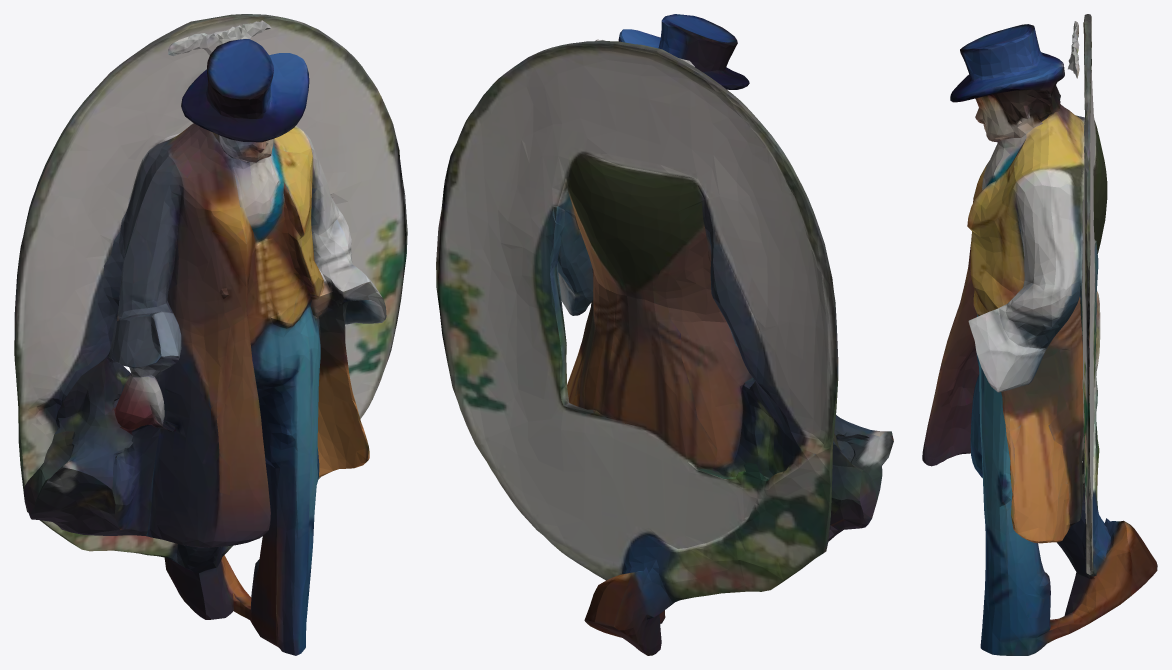
File: anime_industrial_merchant.glb
3 renders of one model, left to right at view 1: azimuth 30°, elevation 25°; view 2: azimuth 150°, elevation 25°; view 3: azimuth 270°, elevation 25°, orthographic. The views are drawn at different scales.
Parts seen in each view (by area): view 1: geometry_0; view 2: geometry_0; view 3: geometry_0.
Part boxes in pixels (<box>): geometry_0: <box>14,14,407,655</box>; geometry_0: <box>436,14,893,655</box>; geometry_0: <box>922,14,1157,655</box>.
Size of the model in its own units: 0.6907 by 0.9967 by 0.3537.
1 material, 1 textured.
